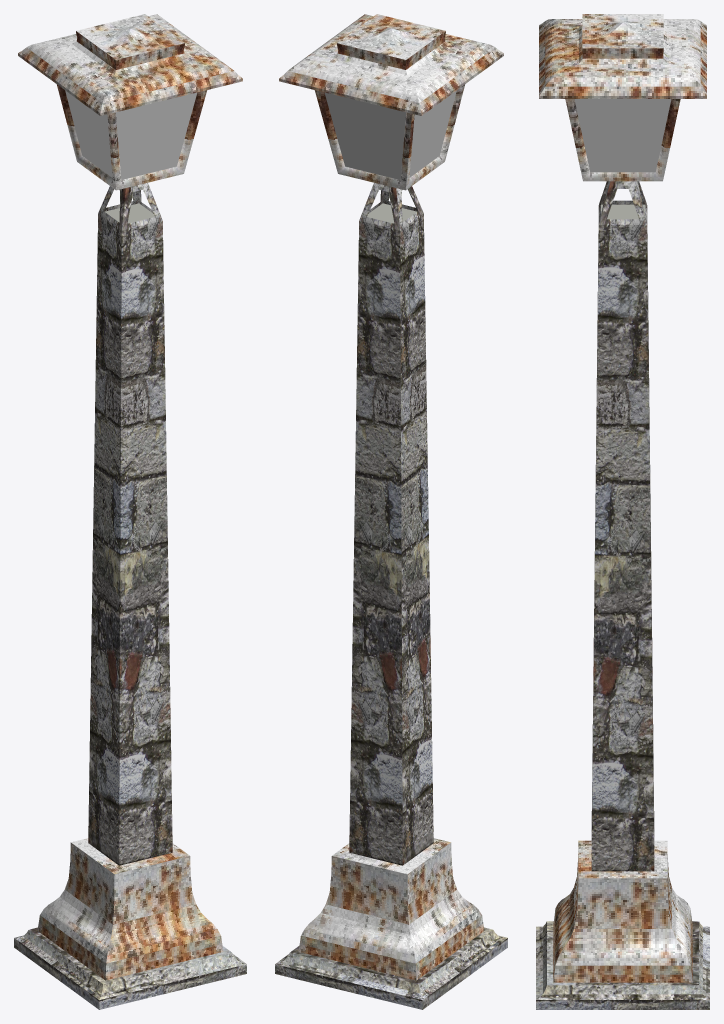
Rendered from poste.glb.
3 views of the same model, side by side, from view 1: azimuth 30°, elevation 25°; view 2: azimuth 150°, elevation 25°; view 3: azimuth 270°, elevation 25° (orthographic).
Visible parts, largest first — view 1: poste; view 2: poste; view 3: poste.
Part boxes in pixels (bbox=[...]): poste: bbox=[14, 14, 246, 1009]; poste: bbox=[275, 14, 507, 1009]; poste: bbox=[536, 14, 709, 1009].
Bounding box in the file's own units: 0.6234 × 3.76 × 0.6234.
Materials: 3 (2 with a texture image).
